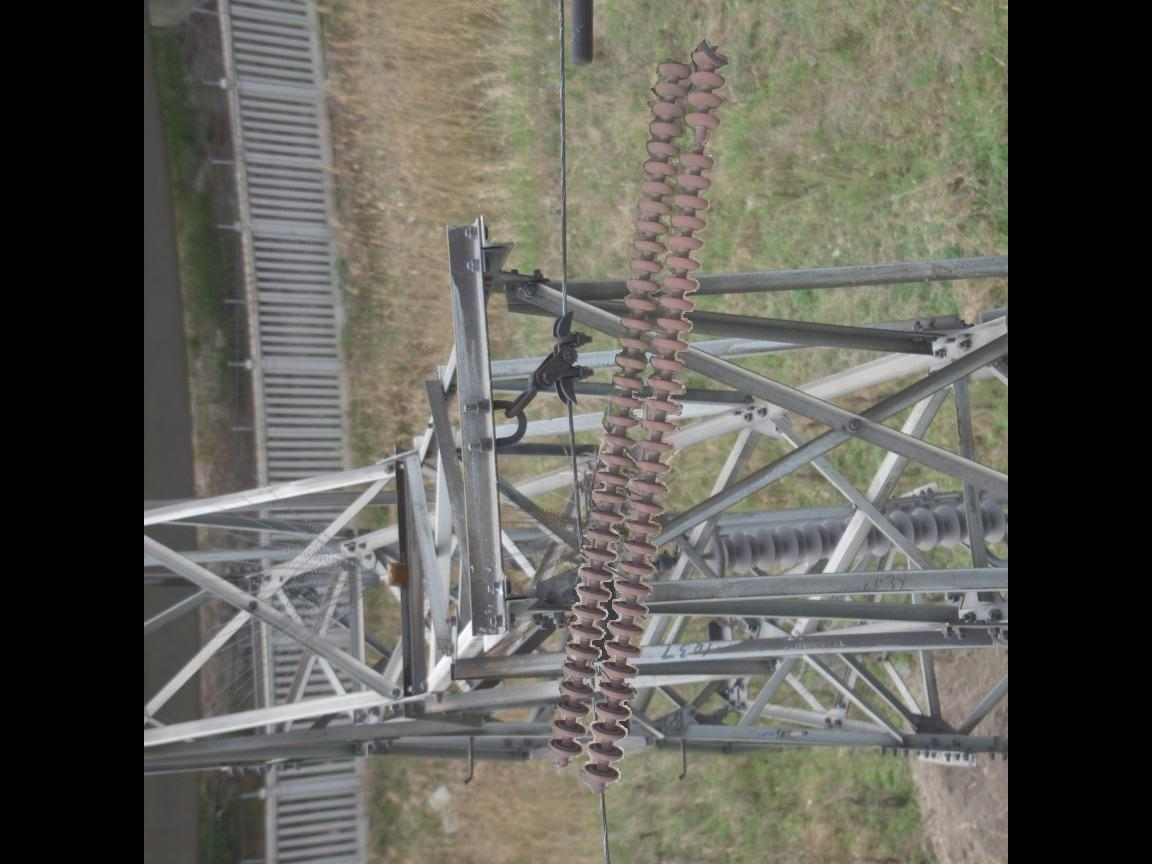insulator: (541, 39, 732, 794), (705, 488, 1005, 577)
insulator_stringdrop: (676, 110, 724, 173)
